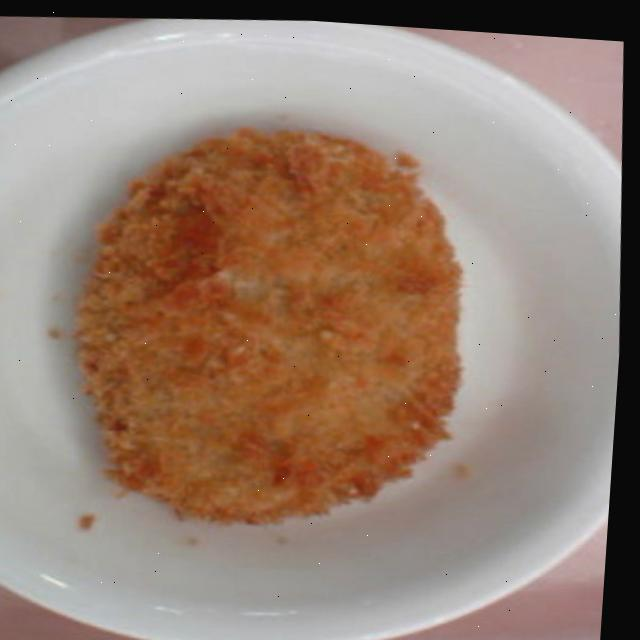炸货点心: (0, 40, 638, 640)
